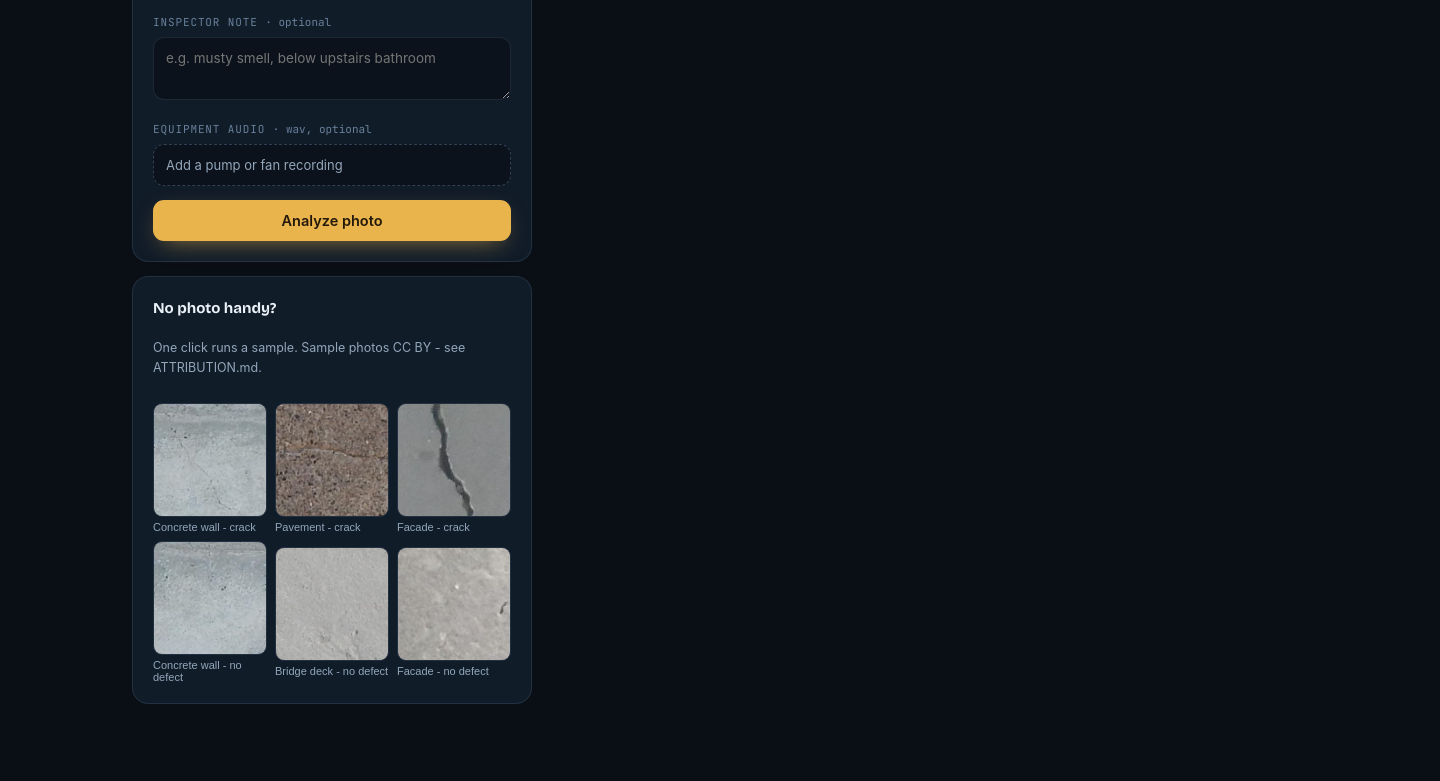
Test: clicking a gallery example populates the note and runs the analyze flow
The image size is (1440, 781).
(page scrolled)
Click the button with aria-label "load example:".
click(210, 468)  # box top-left (153, 403), bottom-right (267, 533)
(page scrolled)
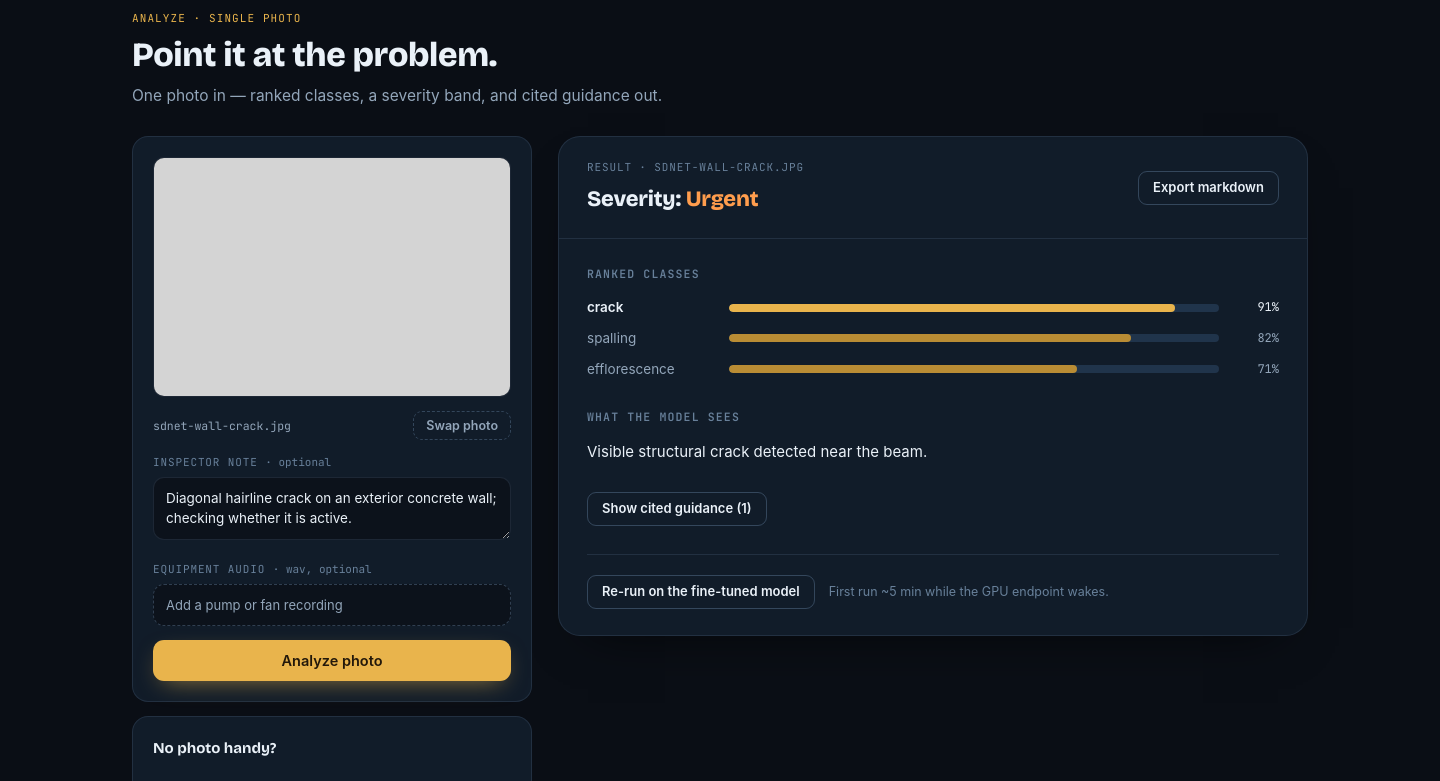
Check: the text box labelled "Inspector note · optional" is not empty, box top-left (153, 477), bottom-right (511, 540)
Check: the heading with test id "severity-headline" reads "Severity: Urgent", box top-left (587, 186), bottom-right (758, 212)
